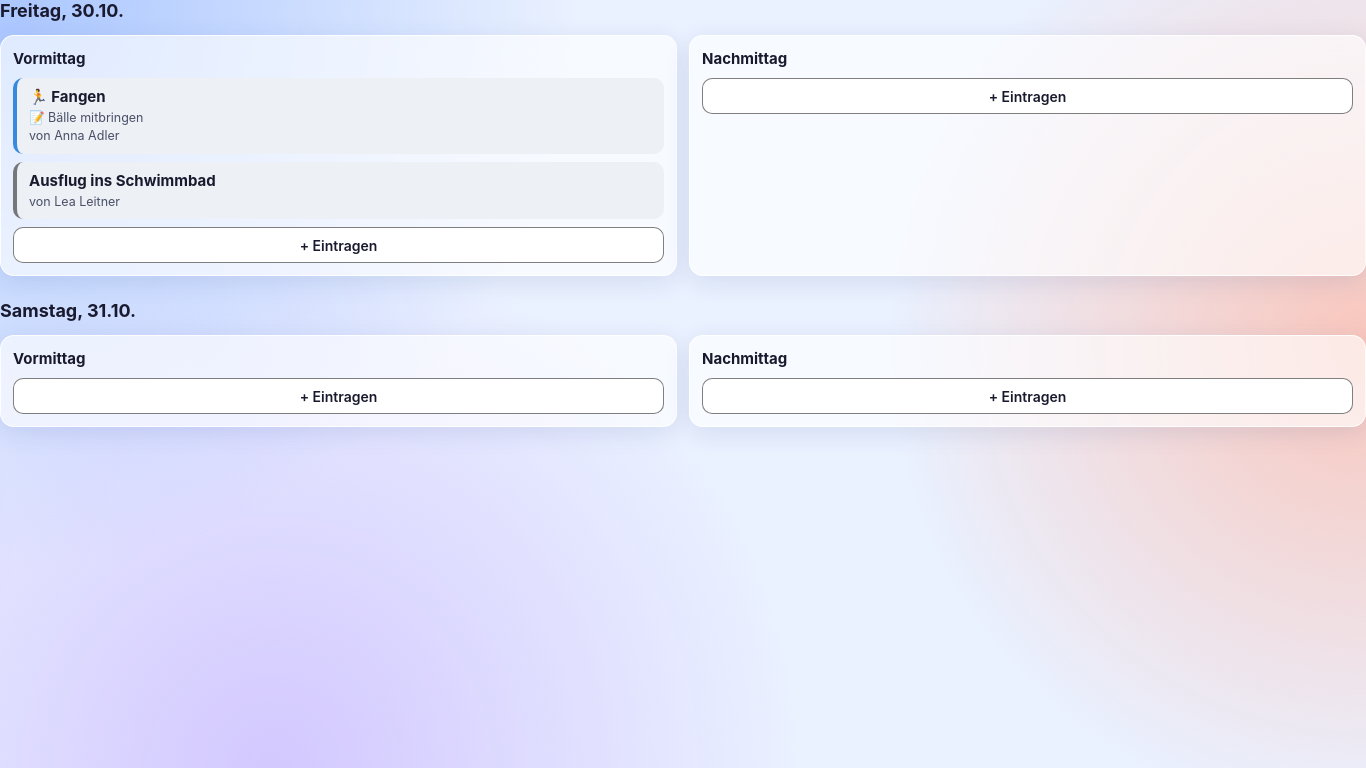
Test: Wochenplan: TeamerIn › ein FREMDER Eintrag ist nur lesbar: keine Änderungs-Knöpfe, Hinweis
This screenshot has width=1366, height=768.
Click the button "Ausflug ins Schwimmbad von Lea Leitner" at x=122, y=180, box [13,162,664,219]
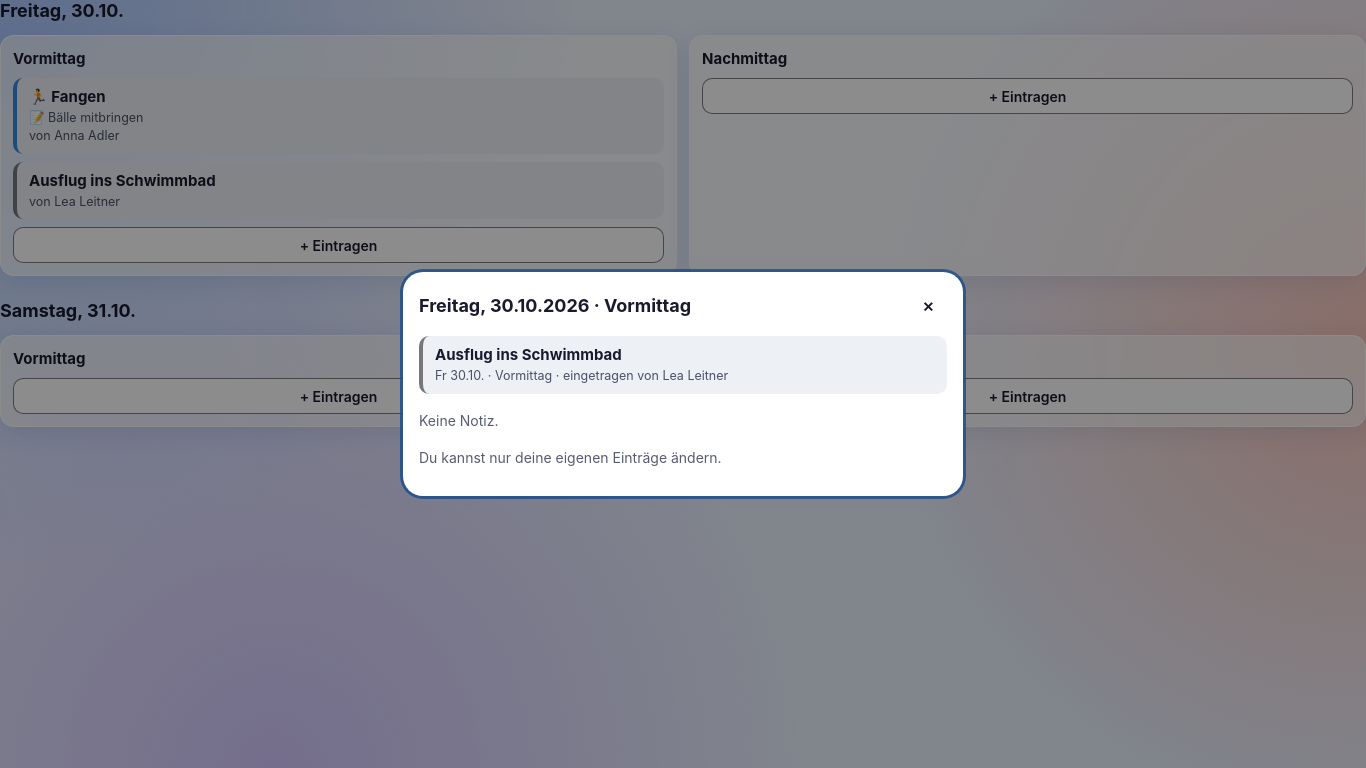
expect the text "Du kannst nur deine eigenen Einträge ändern." is shown: met, box [419,449,722,466]
expect the text "Fr 30.10. · Vormittag · eingetragen von Lea Leitner" is shown: met, box [435,368,728,383]
